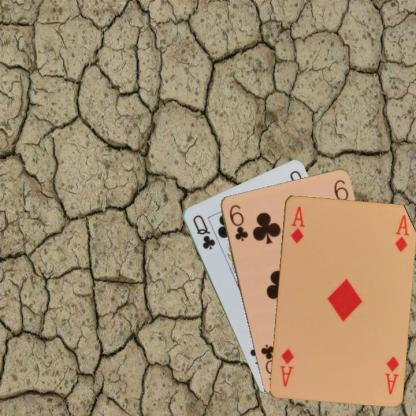6c: (227, 202, 249, 242)
Ad: (382, 354, 400, 395), (288, 204, 306, 244)
Qc: (190, 212, 216, 251)
